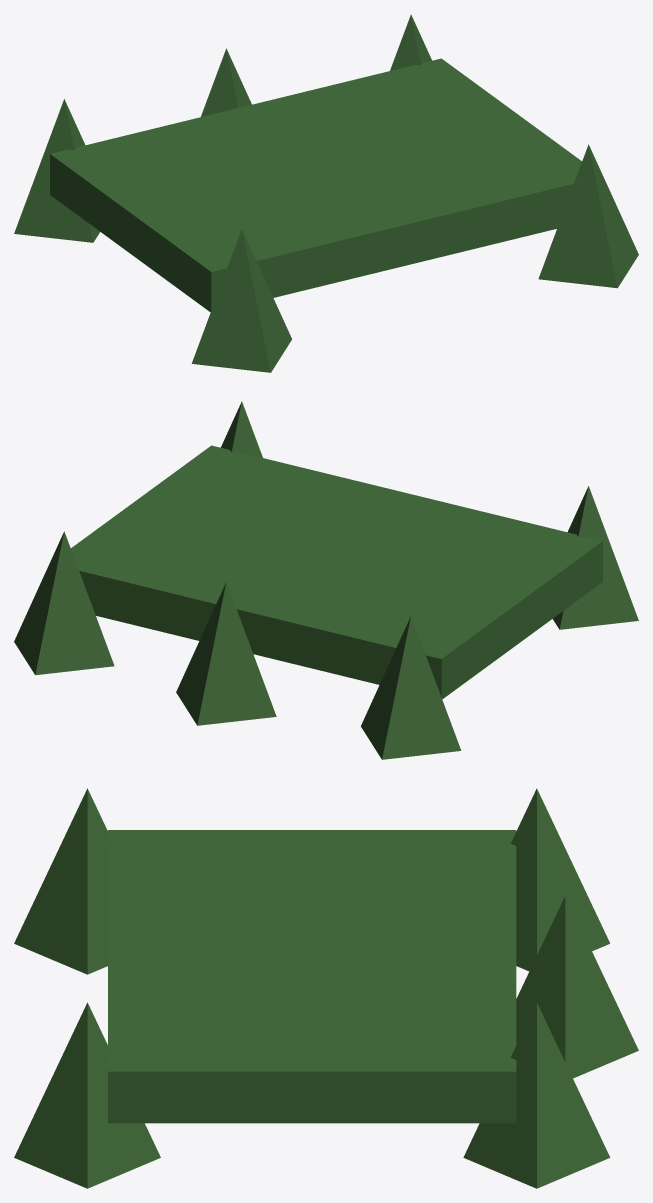
Rendered from troll_hide.obj.
3 views of the same model, one above another, from view 1: azimuth 30°, elevation 25°; view 2: azimuth 150°, elevation 25°; view 3: azimuth 270°, elevation 25° (orthographic). The views are drawn at different scales.
Visible parts, largest first — view 1: models/items/troll_hide.obj; view 2: models/items/troll_hide.obj; view 3: models/items/troll_hide.obj.
Part boxes in pixels (x1,y1,x2,y2): models/items/troll_hide.obj: (14,14,638,372); models/items/troll_hide.obj: (14,401,638,759); models/items/troll_hide.obj: (14,788,638,1188).
Size of the model in its own units: 1.6 by 0.42 by 1.53.
